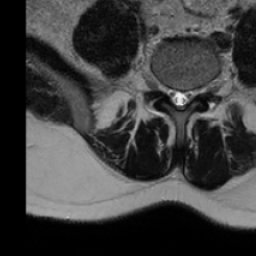CCS_stenosis: (175, 80, 184, 118)
LFS_stenosis: (192, 77, 204, 104)
LLS_normal: (184, 80, 192, 111)
RFS_stenosis: (157, 72, 167, 101)
RLS_normal: (167, 78, 175, 112)
